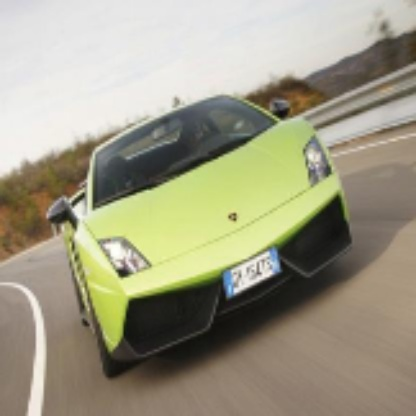Vehicle: (46, 87, 359, 384)
